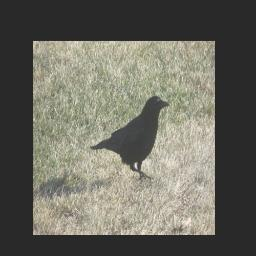Crow: (92, 93, 172, 179)
